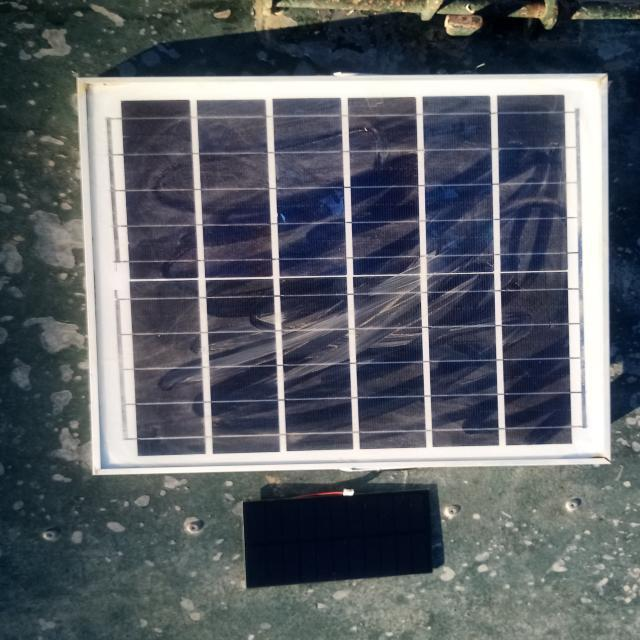faulty: (86, 80, 609, 472)
no faulty: (244, 489, 433, 588)
